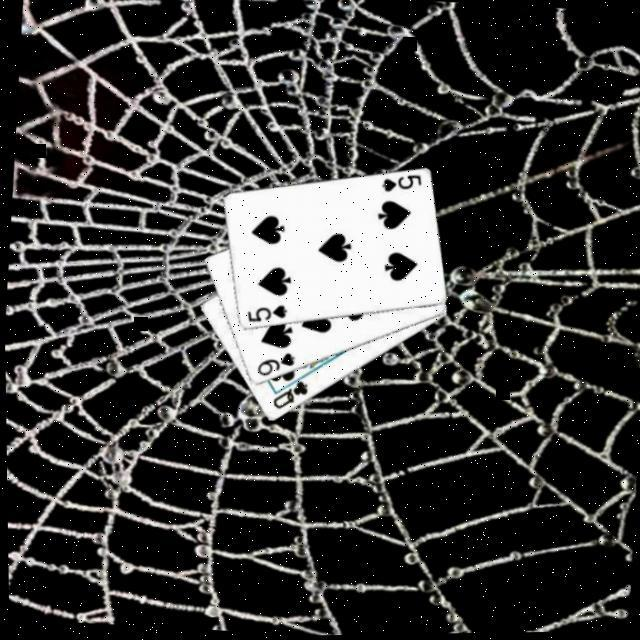5S: (242, 299, 290, 327), (377, 169, 425, 197)
9S: (252, 347, 296, 381)
QC: (268, 375, 310, 412)
